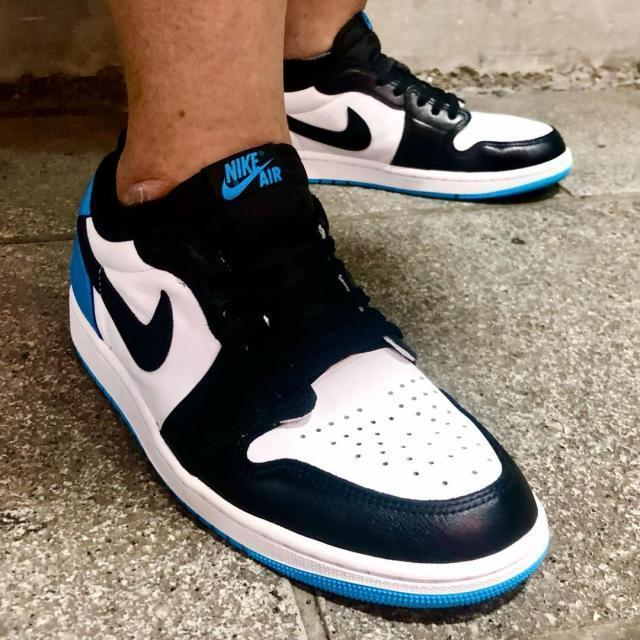nike original jordan 1: (58, 130, 544, 610)
